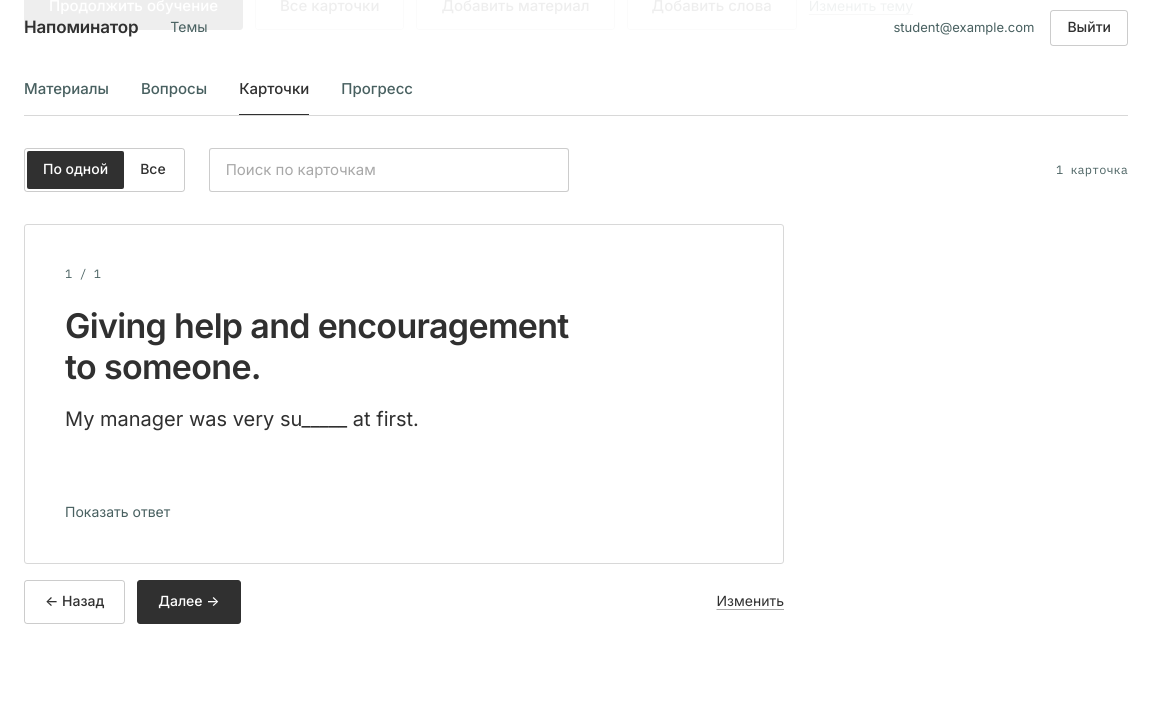
Test case: Экран карточек › у свёрнутой карточки слова видно объяснение и предложение с подсказкой, у раскрытой — слово и перевод
(page scrolled)
Expected: the text "supportive" is not shown
Click the button "Giving help and encouragement" at {"x": 404, "y": 414}, box [65,306,743,523]
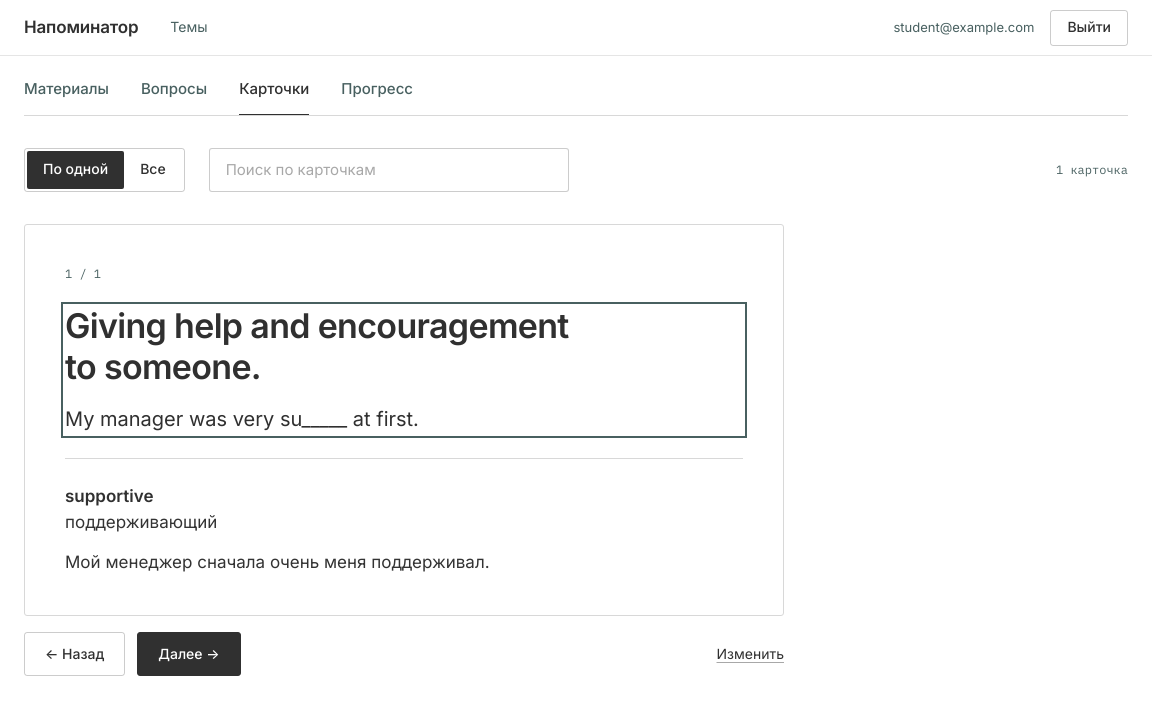
Expected: the text "My manager was very su_____ at first." is shown once, [65,404,419,434]
Now the text "Мой менеджер сначала очень меня поддерживал." is shown, box [65,552,490,572]
